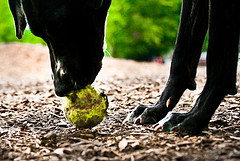tennis ball: (61, 87, 110, 129)
